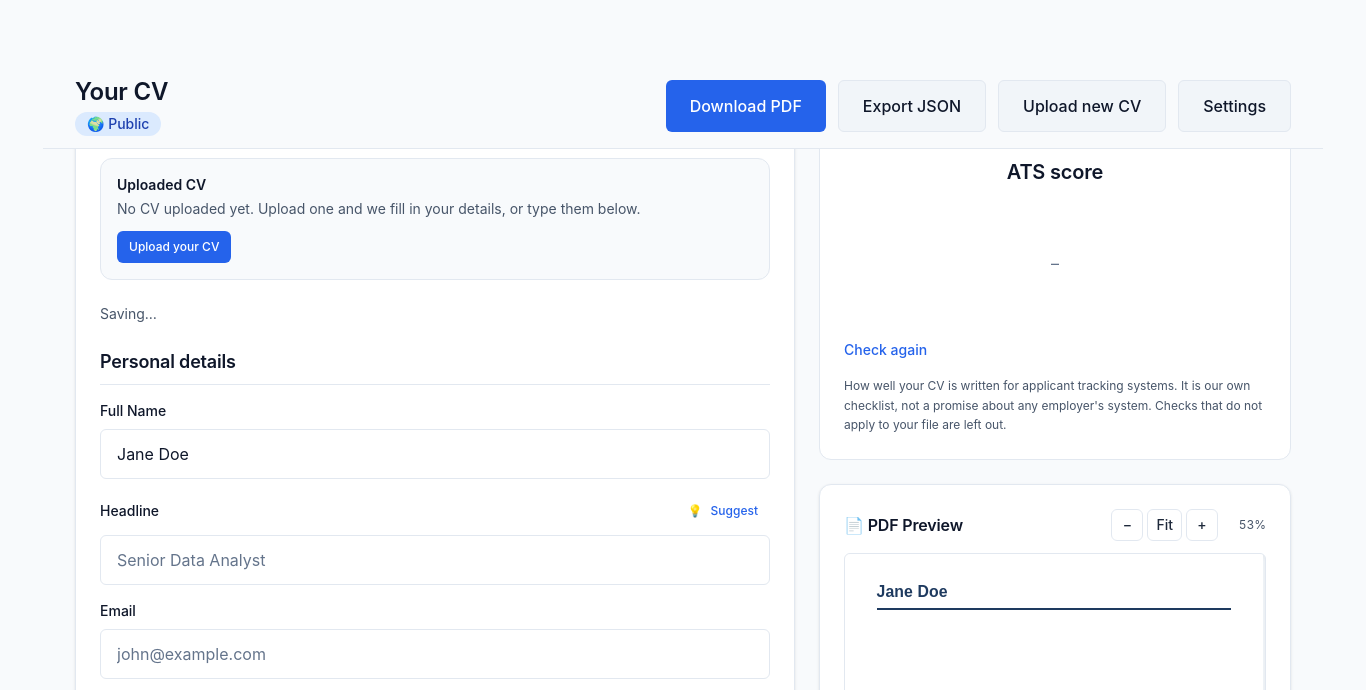
Test case: Download PDF, Export JSON and visibility › shows the error when the PDF cannot be made
Click the button "Download PDF": [746, 106] box [666,80,826,132]
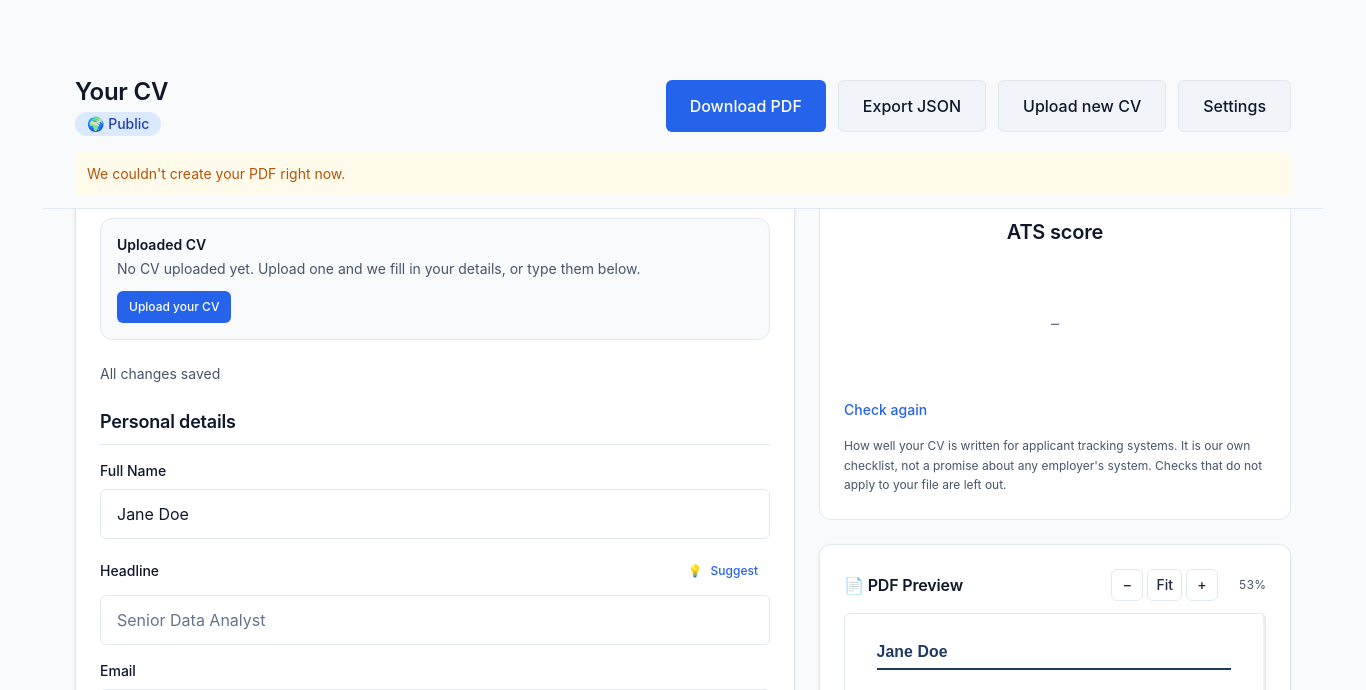
Expected: the message "We couldn't create your PDF right now." is shown, [75,152,1291,196]
